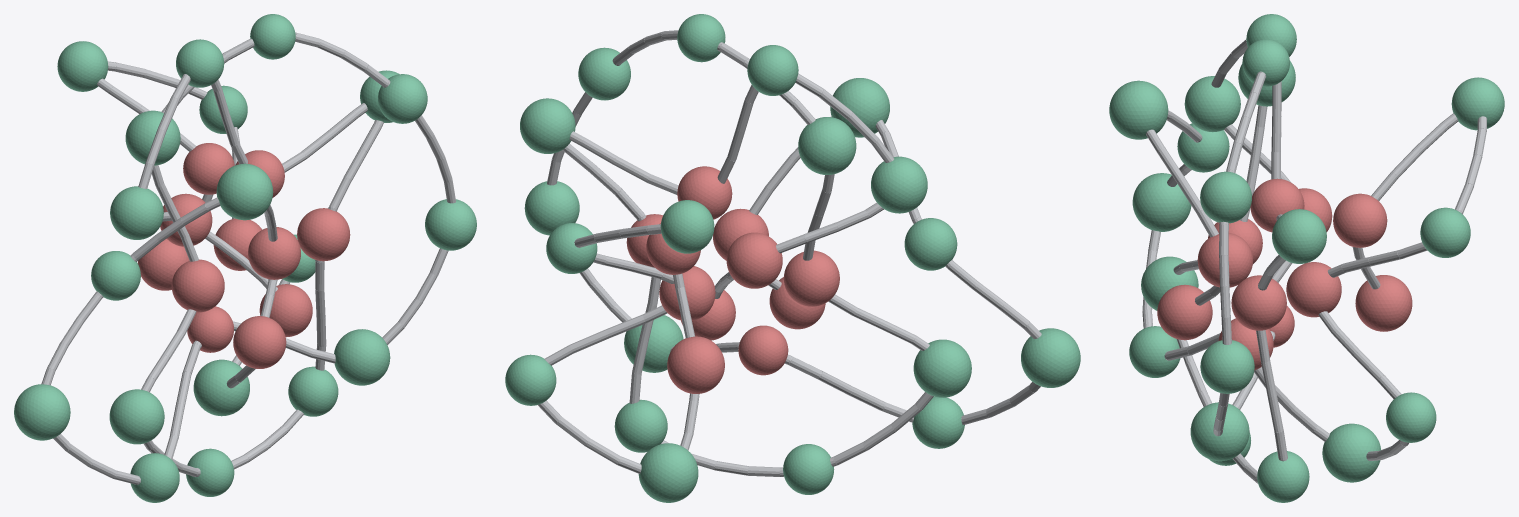
Rendered from proteina_1_30aa_5565125.glb.
The picture shows the model from 3 angles, left to right: view 1: azimuth 30°, elevation 25°; view 2: azimuth 150°, elevation 25°; view 3: azimuth 270°, elevation 25°; orthographic projection. The views are drawn at different scales.
Visible parts, largest first — view 1: geometry_347, geometry_349, geometry_352, geometry_358, geometry_368, geometry_365, geometry_345, geometry_361, geometry_357, geometry_346, geometry_353, geometry_372 (+18 smaller); view 2: geometry_368, geometry_349, geometry_356, geometry_358, geometry_374, geometry_365, geometry_366, geometry_362, geometry_357, geometry_372, geometry_348, geometry_353 (+18 smaller); view 3: geometry_347, geometry_368, geometry_349, geometry_352, geometry_374, geometry_365, geometry_362, geometry_370, geometry_373, geometry_345, geometry_361, geometry_353 (+17 smaller).
Part boxes in pixels (x1=…): geometry_347: x1=216, y1=163, x2=273, y2=220; geometry_349: x1=14, y1=384, x2=70, y2=440; geometry_352: x1=334, y1=329, x2=390, y2=385; geometry_358: x1=109, y1=389, x2=164, y2=444; geometry_368: x1=193, y1=359, x2=249, y2=416; geometry_365: x1=110, y1=186, x2=163, y2=239; geometry_345: x1=233, y1=316, x2=286, y2=368; geometry_361: x1=297, y1=208, x2=350, y2=261; geometry_357: x1=171, y1=259, x2=224, y2=312; geometry_346: x1=248, y1=227, x2=300, y2=279; geometry_353: x1=425, y1=199, x2=476, y2=250; geometry_372: x1=57, y1=41, x2=108, y2=91; geometry_368: x1=638, y1=443, x2=698, y2=502; geometry_349: x1=1021, y1=328, x2=1080, y2=387; geometry_356: x1=798, y1=117, x2=856, y2=174; geometry_358: x1=913, y1=339, x2=971, y2=397; geometry_374: x1=667, y1=336, x2=724, y2=393; geometry_365: x1=871, y1=156, x2=927, y2=213; geometry_366: x1=726, y1=232, x2=782, y2=288; geometry_362: x1=520, y1=98, x2=575, y2=153; geometry_357: x1=783, y1=250, x2=839, y2=306; geometry_372: x1=660, y1=200, x2=714, y2=253; geometry_348: x1=904, y1=218, x2=957, y2=270; geometry_353: x1=524, y1=181, x2=579, y2=235; geometry_347: x1=1109, y1=80, x2=1168, y2=139; geometry_368: x1=1322, y1=423, x2=1380, y2=482; geometry_349: x1=1132, y1=173, x2=1191, y2=231; geometry_352: x1=1190, y1=402, x2=1249, y2=461; geometry_374: x1=1355, y1=275, x2=1412, y2=331; geometry_365: x1=1184, y1=76, x2=1240, y2=132; geometry_362: x1=1272, y1=209, x2=1326, y2=263; geometry_370: x1=1286, y1=262, x2=1341, y2=317; geometry_373: x1=1333, y1=193, x2=1387, y2=247; geometry_345: x1=1157, y1=284, x2=1212, y2=340; geometry_361: x1=1231, y1=275, x2=1286, y2=330; geometry_353: x1=1200, y1=340, x2=1254, y2=393.
Bounding box in the file's own units: 13.22 × 11.53 × 8.91.
